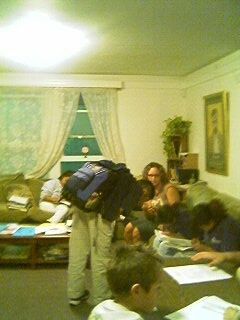person: (89, 243, 240, 320)
